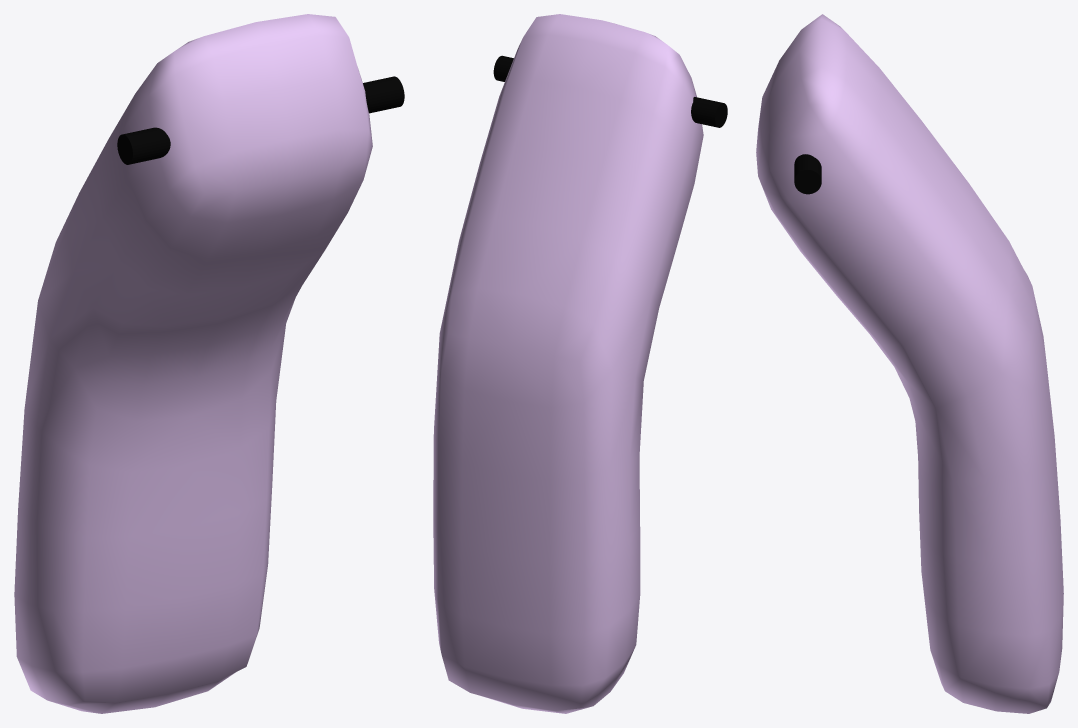
File: final_robot_joint5.dae
3 renders of one model, left to right at view 1: azimuth 30°, elevation 25°; view 2: azimuth 150°, elevation 25°; view 3: azimuth 270°, elevation 25°, orthographic. The views are drawn at different scales.
Parts seen in each view (by area): view 1: 5; view 2: 5; view 3: 5.
Boxes of the visible parts, bbox=[...] form: 5: bbox=[14, 14, 404, 713]; 5: bbox=[433, 14, 727, 713]; 5: bbox=[756, 14, 1063, 713].
Size of the model in its own units: 0.4511 by 0.5018 by 1.19.
